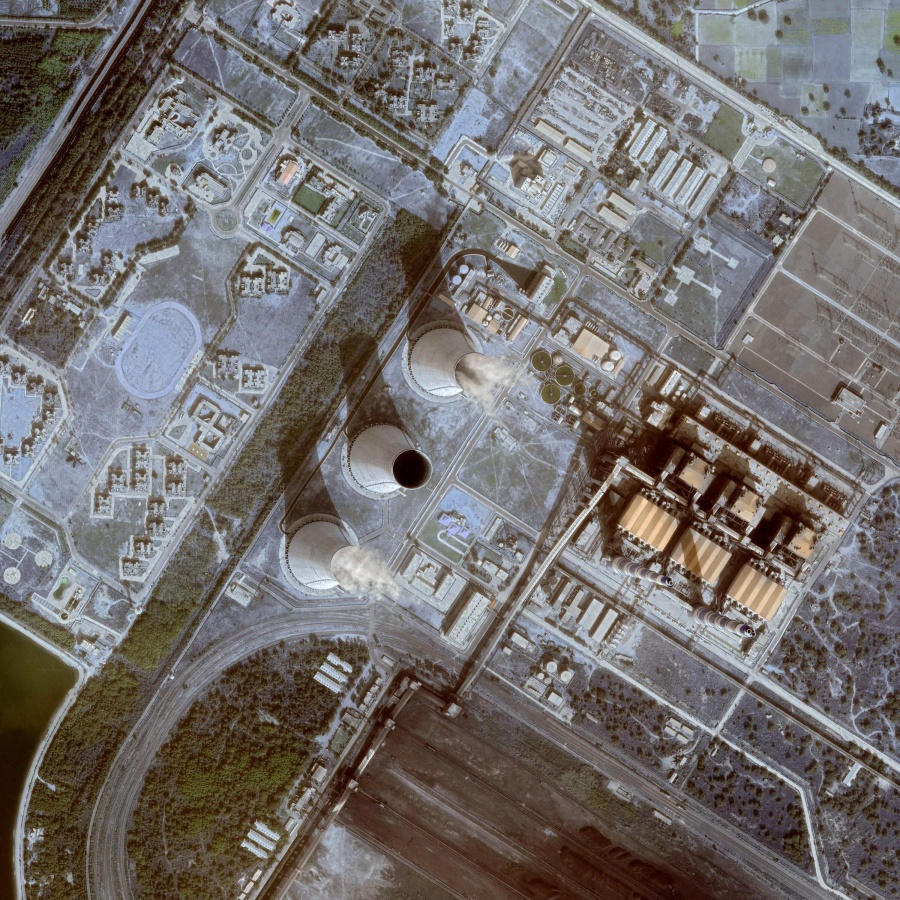PowerPlant: (273, 208, 823, 645)
